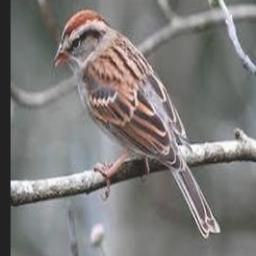Sparrow: (52, 9, 220, 239)
